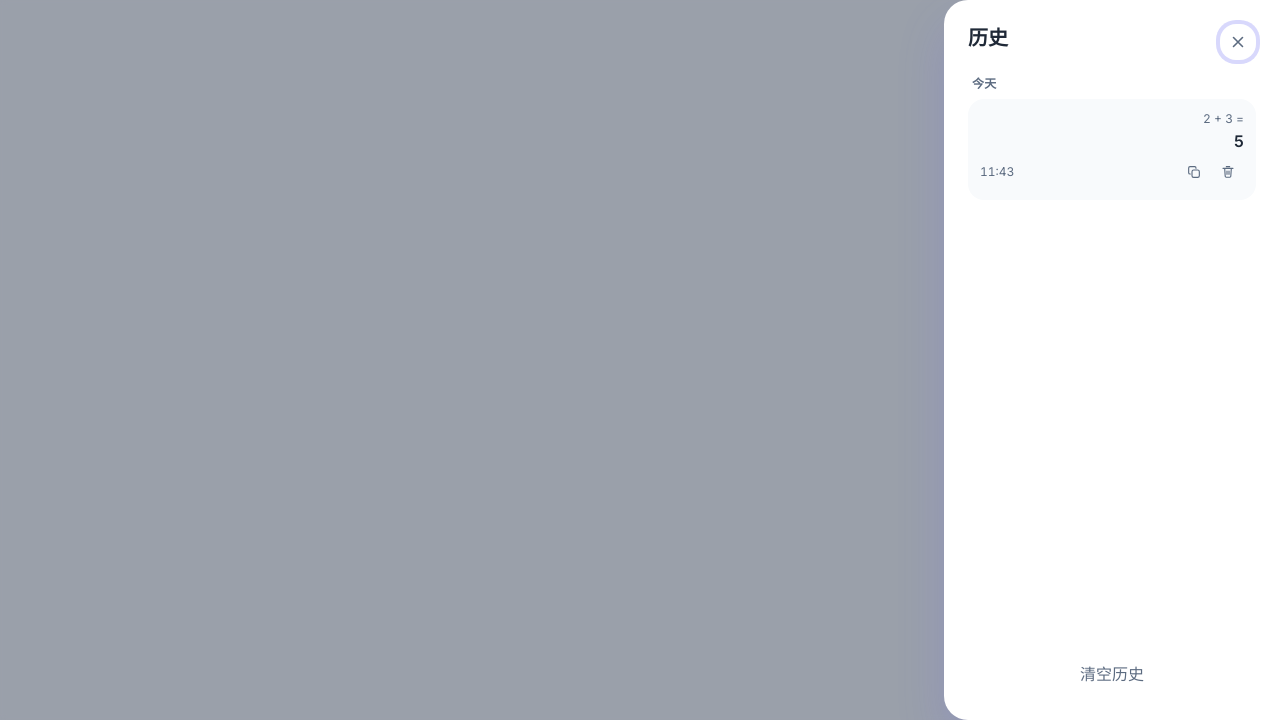
Test: HistoryDrawer › copies the raw value and confirms with a toast
Click the button named "复制": (1194, 172) [1178,156,1210,188]
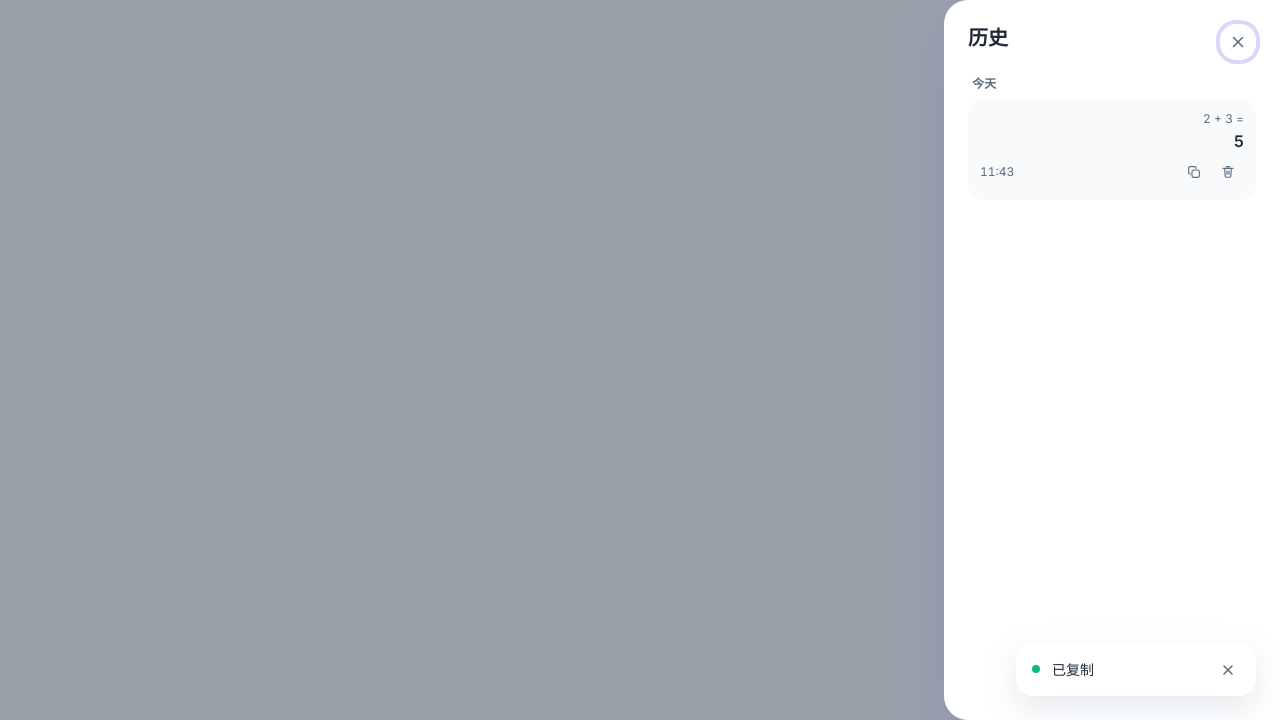
Expected: the text "已复制" is shown, [1052,661,1094,678]
